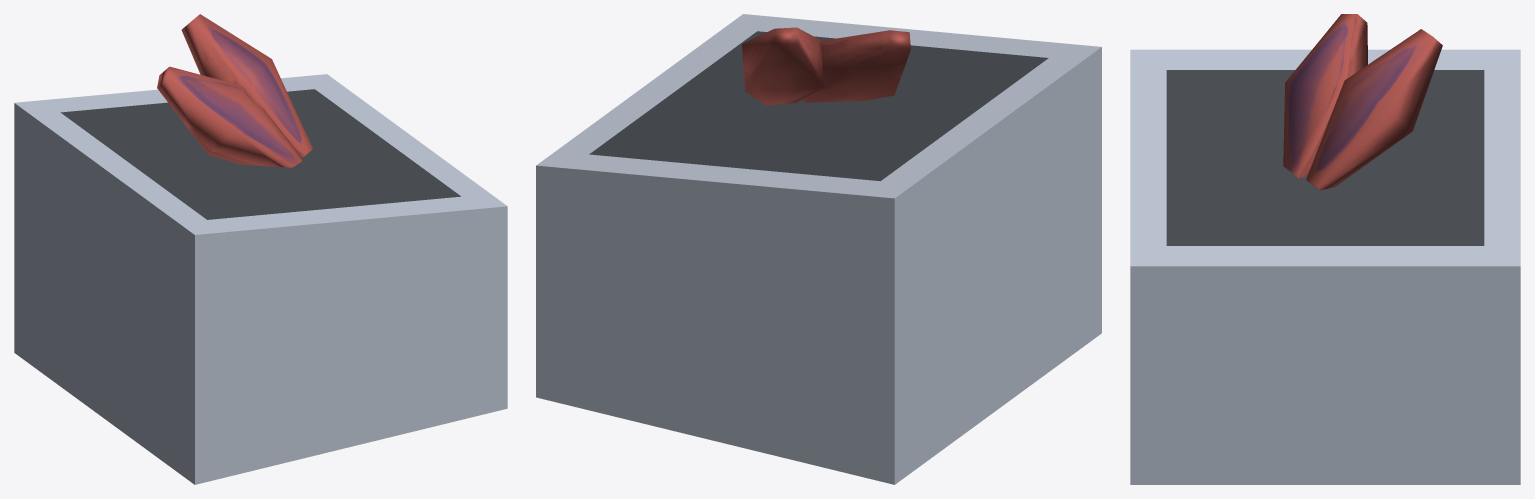
The model's file is BoxSeed_Red.fbx.
3 renders of one model, left to right at view 1: azimuth 30°, elevation 25°; view 2: azimuth 150°, elevation 25°; view 3: azimuth 270°, elevation 25°, orthographic. The views are drawn at different scales.
Visible parts, largest first — view 1: pCube1, All_plant:SeedRed:pCube8; view 2: pCube1, All_plant:SeedRed:pCube8; view 3: pCube1, All_plant:SeedRed:pCube8.
Boxes of the visible parts, box(x1,y1,x2,y2) form: pCube1: box(14, 74, 507, 484); All_plant:SeedRed:pCube8: box(157, 14, 312, 167); pCube1: box(536, 14, 1101, 484); All_plant:SeedRed:pCube8: box(742, 27, 910, 105); pCube1: box(1130, 49, 1520, 484); All_plant:SeedRed:pCube8: box(1283, 14, 1442, 190).
Bounding box in the file's own units: 4.54 × 4.62 × 4.54.
